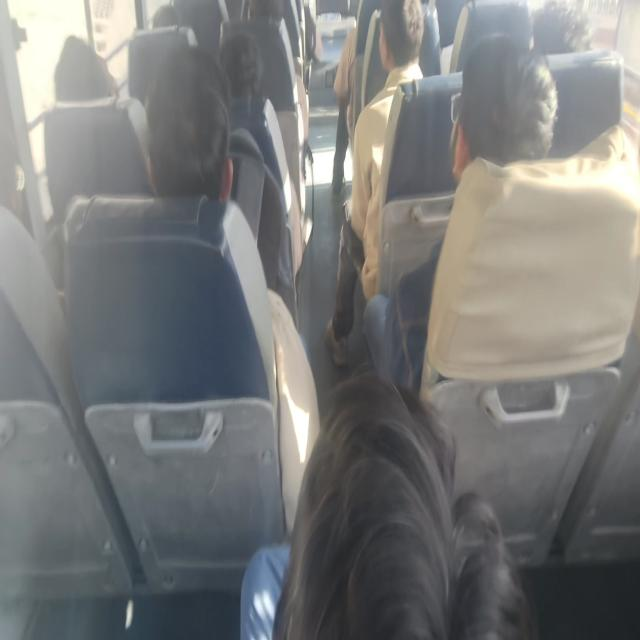person: (240, 367, 532, 638), (419, 33, 639, 386), (363, 32, 559, 392), (144, 44, 280, 408), (324, 0, 425, 367), (43, 34, 153, 220), (144, 45, 234, 202), (52, 34, 118, 102), (331, 25, 357, 196)
